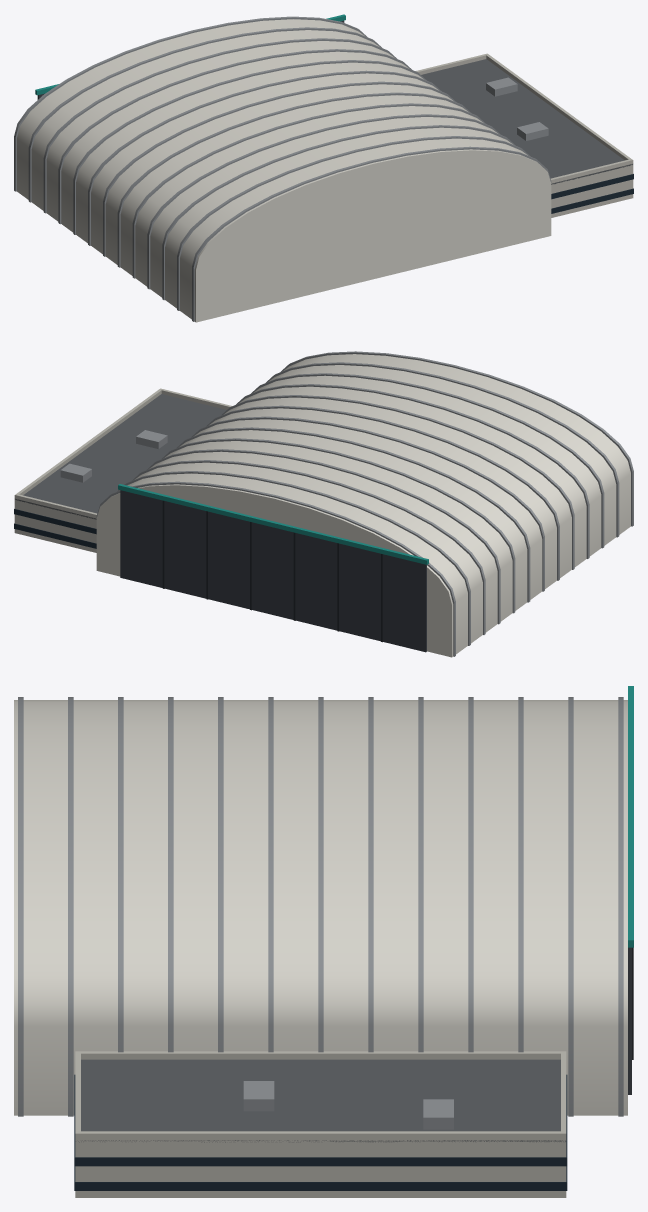
Rendered from hangar_4.glb.
3 renders of one model, top to bottom at view 1: azimuth 30°, elevation 25°; view 2: azimuth 150°, elevation 25°; view 3: azimuth 270°, elevation 25°, orthographic. The views are drawn at different scales.
Parts seen in each view (by area): view 1: Hangar.003; view 2: Hangar.003; view 3: Hangar.003.
Boxes of the visible parts, left/top/right/bottom form: Hangar.003: left=14, top=14, right=633, bottom=322; Hangar.003: left=14, top=351, right=633, bottom=657; Hangar.003: left=14, top=686, right=633, bottom=1197.
Size of the model in its own units: 130 by 31.85 by 90.9.
